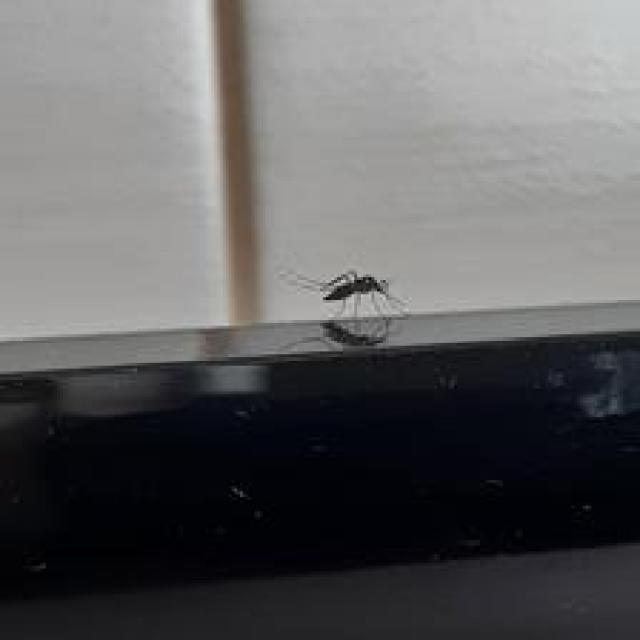Aedes albopictus: (279, 266, 410, 351)
